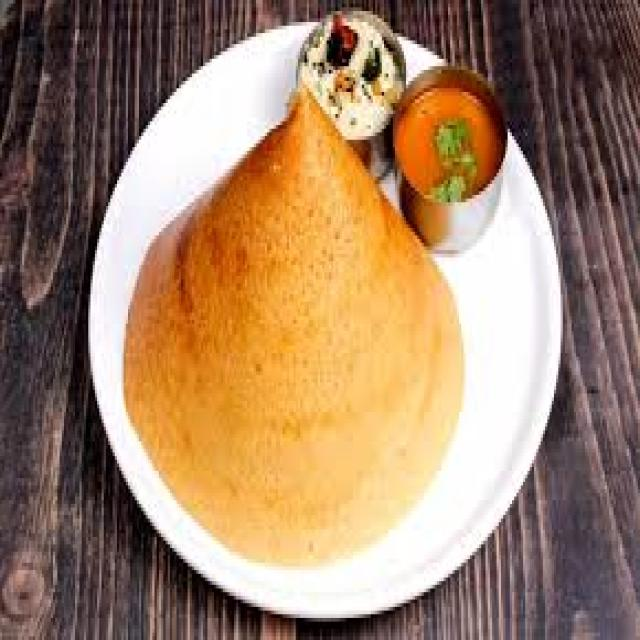DOSA: (124, 88, 461, 563)
